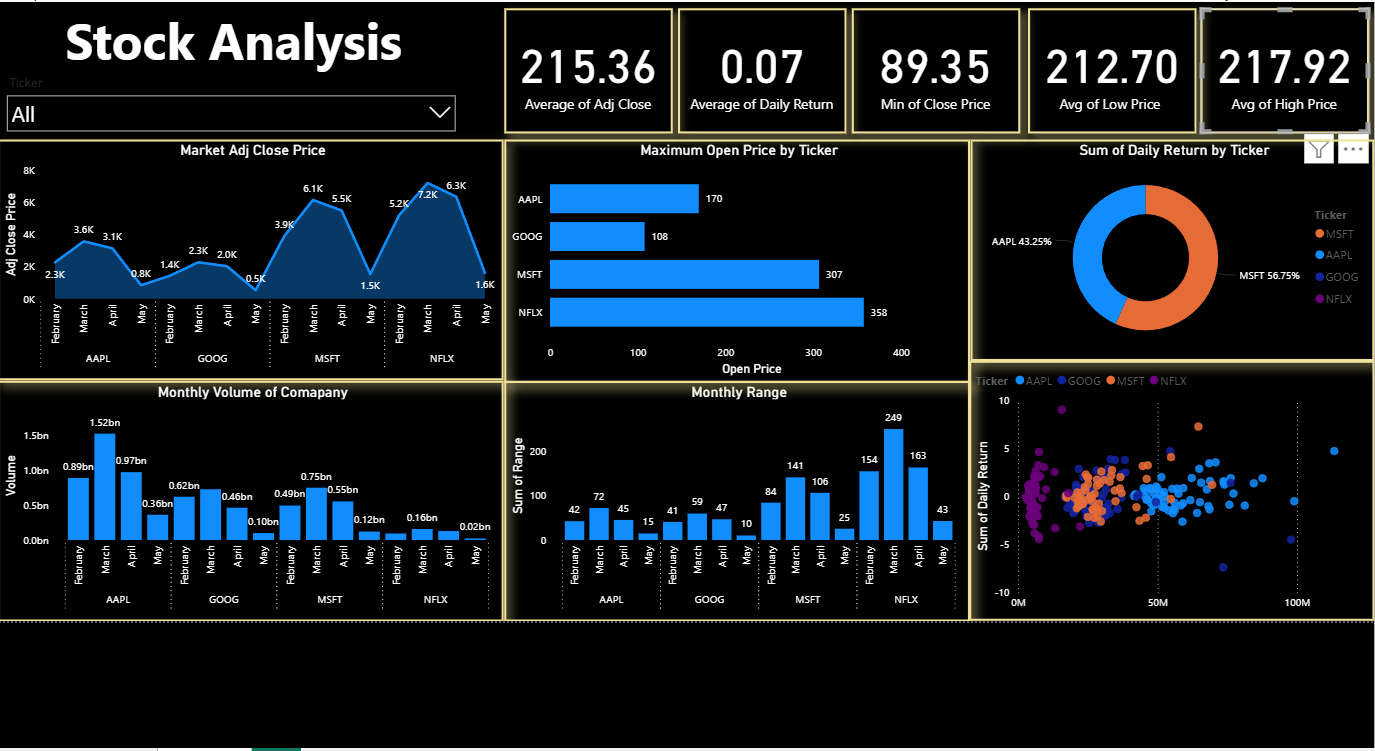

The dashboard page shown, as its layout file describes it:
{"tool":"powerbi","page":{"name":"Page 1","canvas":[1600,720],"ordinal":0},"visuals":[{"type":"areaChart","title":"Market  Adj Close Price ","fields":{"Category":["stocks.Ticker","stocks.Date.Variation.Date Hierarchy.Month"],"Y":["Sum(stocks.Adj Close)"]},"box":[0,160,588.3,280],"z":0},{"type":"textbox","box":[0,0,564.3,102.9],"z":1000},{"type":"columnChart","title":"Monthly Volume of Comapany","fields":{"Category":["stocks.Ticker","stocks.Date.Variation.Date Hierarchy.Month"],"Y":["Sum(stocks.Volume)"]},"box":[0,440,588.3,280],"z":2000},{"type":"columnChart","title":"Monthly Range ","fields":{"Y":["Sum(stocks.Range)"],"Category":["stocks.Ticker","stocks.Date.Variation.Date Hierarchy.Month"]},"box":[588.3,440,541.7,280],"z":3000},{"type":"barChart","title":"Maximum Open Price  by Ticker","fields":{"Category":["stocks.Ticker","stocks.Date.Variation.Date Hierarchy.Day"],"Y":["Max(stocks.Open)"]},"box":[588.3,160,541.7,283.3],"z":4000},{"type":"scatterChart","fields":{"X":["stocks.Volume"],"Series":["stocks.Ticker"],"Y":["Sum(stocks.Daily Return)"]},"box":[1129.4,417.2,470.9,302.3],"z":5000},{"type":"slicer","fields":{"Values":["stocks.Ticker"]},"box":[0,80,541.7,80],"z":6000},{"type":"card","fields":{"Values":["Avg(stocks.Adj Close)"]},"box":[588.7,7.3,196.2,145.3],"z":7000},{"type":"card","fields":{"Values":["Avg(stocks.Daily Return)"]},"box":[790.7,7.3,196.2,145.3],"z":7001},{"type":"card","fields":{"Values":["Min(stocks.Close)"]},"box":[992.7,7.3,196.2,145.3],"z":7002},{"type":"card","fields":{"Values":["Avg(stocks.Low)"]},"box":[1197.7,7.3,196.2,145.3],"z":7003},{"type":"card","fields":{"Values":["Avg(stocks.High)"]},"box":[1398.3,7.3,196.2,145.3],"z":7004},{"type":"donutChart","fields":{"Category":["stocks.Ticker"],"Y":["Sum(stocks.Daily Return)"]},"box":[1130.8,159.9,469.5,257.3],"z":7005}]}

Visuals, with their boxes in screenshot pixels (x1, y1, x2, y2):
"Market  Adj Close Price " areaChart: x1=7 y1=139 x2=506 y2=376
textbox: x1=7 y1=4 x2=485 y2=91
"Monthly Volume of Comapany" columnChart: x1=7 y1=376 x2=506 y2=614
"Monthly Range " columnChart: x1=506 y1=376 x2=965 y2=614
"Maximum Open Price  by Ticker" barChart: x1=506 y1=139 x2=965 y2=379
scatterChart - stocks.Volume x stocks.Ticker: x1=964 y1=357 x2=1363 y2=613
slicer - stocks.Ticker: x1=7 y1=71 x2=466 y2=139
card - Avg(stocks.Adj Close): x1=506 y1=10 x2=672 y2=133
card - Avg(stocks.Daily Return): x1=677 y1=10 x2=844 y2=133
card - Min(stocks.Close): x1=848 y1=10 x2=1015 y2=133
card - Avg(stocks.Low): x1=1022 y1=10 x2=1188 y2=133
card - Avg(stocks.High): x1=1192 y1=10 x2=1358 y2=133
donutChart - stocks.Ticker x Sum(stocks.Daily Return): x1=966 y1=139 x2=1363 y2=357
